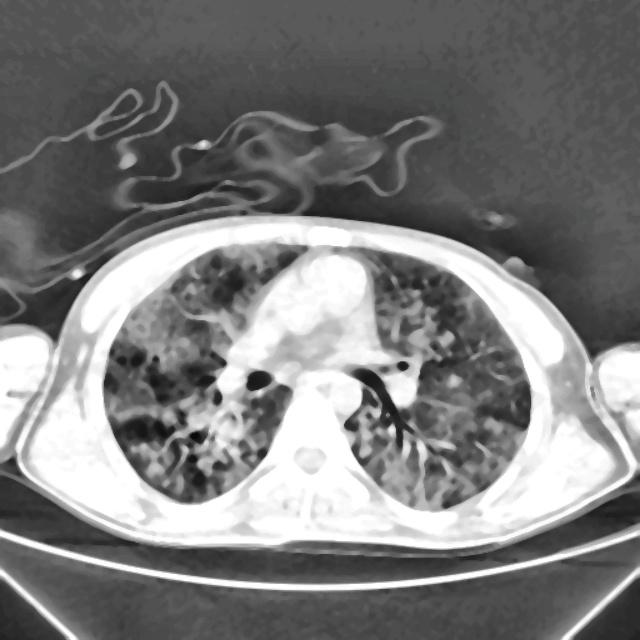covid: (7, 212, 637, 557)
